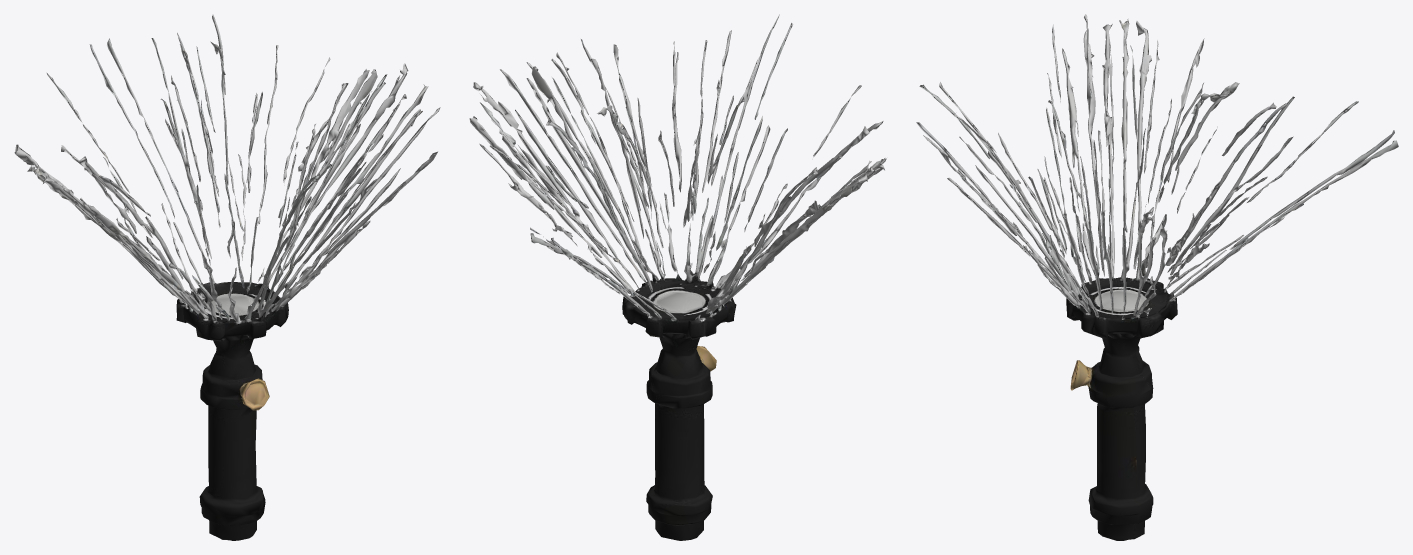
Rendered from sprinkler.glb.
The picture shows the model from 3 angles, left to right: view 1: azimuth 30°, elevation 25°; view 2: azimuth 150°, elevation 25°; view 3: azimuth 270°, elevation 25°; orthographic projection.
Bounding box in the file's own units: 0.9016 × 0.9981 × 0.9575.
1 material, 1 textured.
